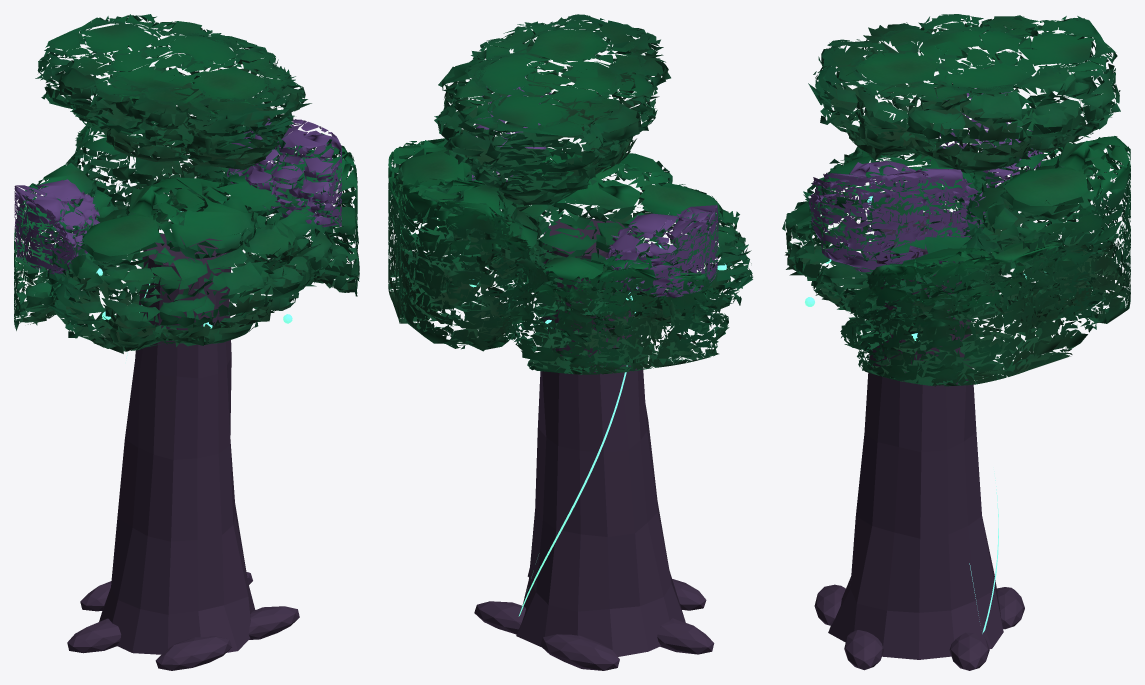
The model's file is Pandora_GreatTree.glb.
3 renders of one model, left to right at view 1: azimuth 30°, elevation 25°; view 2: azimuth 150°, elevation 25°; view 3: azimuth 270°, elevation 25°, orthographic. The views are drawn at different scales.
Visible parts, largest first — view 1: GreatTree_Crown, GreatTree_Trunk, GreatTree_CrownAccent; view 2: GreatTree_Crown, GreatTree_Trunk, GreatTree_CrownAccent, GreatTree_Glow; view 3: GreatTree_Crown, GreatTree_Trunk, GreatTree_CrownAccent.
Boxes of the visible parts, left/top/right/bottom form: GreatTree_Crown: left=14, top=14, right=359, bottom=353; GreatTree_Trunk: left=67, top=234, right=299, bottom=670; GreatTree_CrownAccent: left=14, top=118, right=341, bottom=274; GreatTree_Crown: left=388, top=14, right=752, bottom=374; GreatTree_Trunk: left=474, top=219, right=714, bottom=670; GreatTree_CrownAccent: left=472, top=73, right=718, bottom=297; GreatTree_Glow: left=469, top=242, right=726, bottom=616; GreatTree_Crown: left=782, top=14, right=1130, bottom=386; GreatTree_Trunk: left=814, top=212, right=1024, bottom=670; GreatTree_CrownAccent: left=808, top=88, right=1045, bottom=272.
Size of the model in its own units: 6.89 by 11.17 by 6.04.
Materials: 4 (1 with a texture image).
